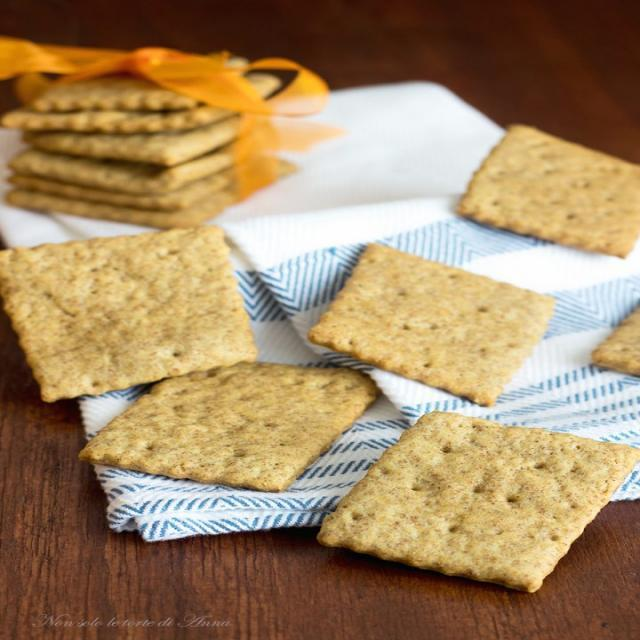Cracker: (306, 407, 640, 590), (310, 240, 572, 403), (6, 235, 270, 385)
